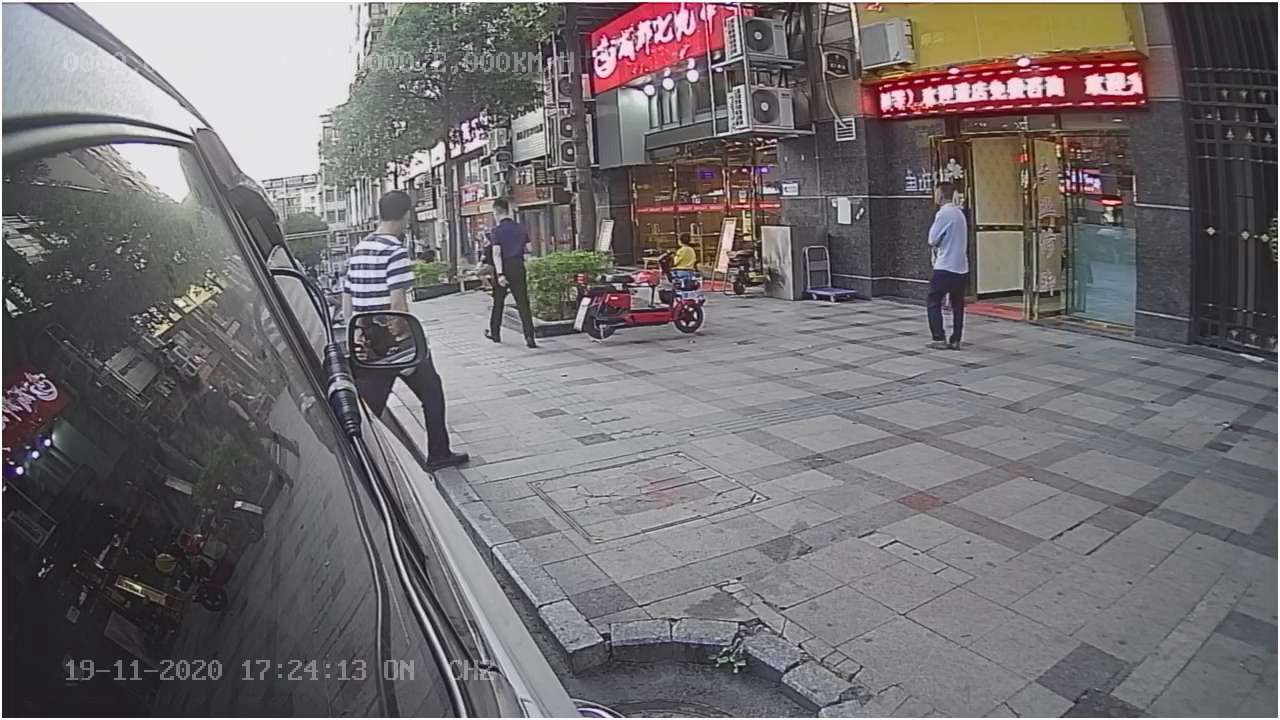person: (469, 191, 544, 352), (917, 175, 975, 355), (341, 188, 427, 307)
